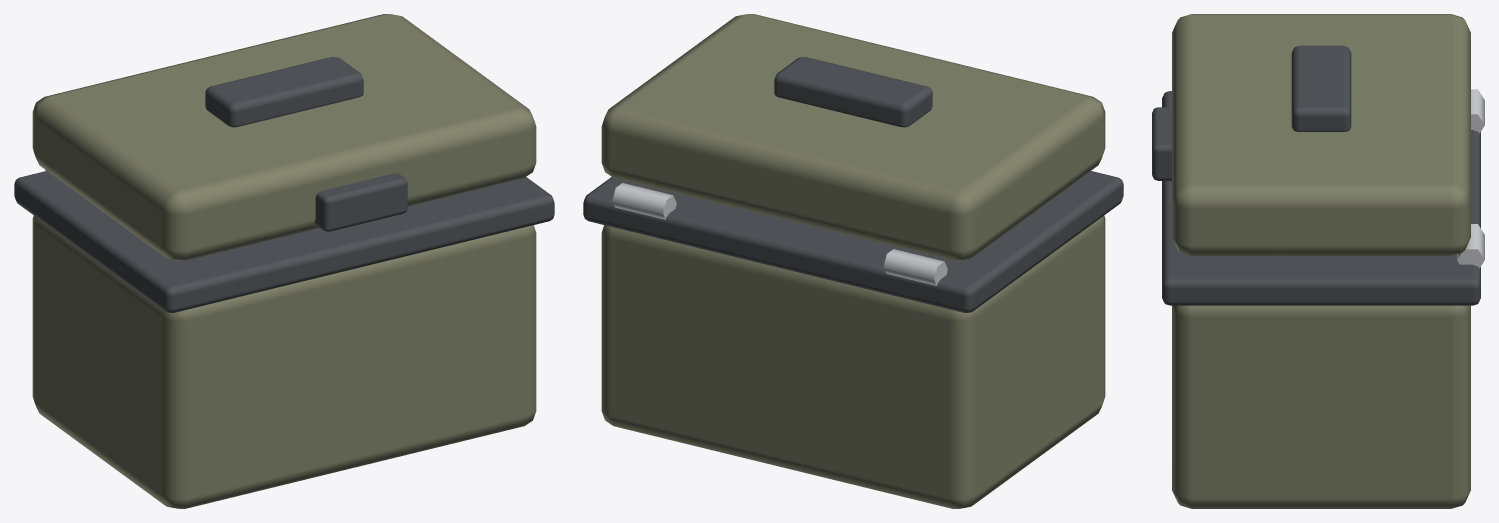
Rendered from fps-survival-forest-outpost-ammunition-box-67867ab3__32672.glb.
3 renders of one model, left to right at view 1: azimuth 30°, elevation 25°; view 2: azimuth 150°, elevation 25°; view 3: azimuth 270°, elevation 25°, orthographic.
Parts seen in each view (by area): view 1: ammunition-box, lid/canvas, lid/gunmetal; view 2: ammunition-box, lid/canvas, lid/gunmetal; view 3: ammunition-box, lid/canvas, lid/gunmetal.
Part boxes in pixels (bbox=[...]): ammunition-box: bbox=[14, 170, 554, 508]; lid/canvas: bbox=[32, 14, 536, 260]; lid/gunmetal: bbox=[205, 57, 407, 231]; ammunition-box: bbox=[583, 171, 1123, 508]; lid/canvas: bbox=[601, 14, 1105, 260]; lid/gunmetal: bbox=[774, 57, 932, 127]; ammunition-box: bbox=[1162, 89, 1484, 508]; lid/canvas: bbox=[1172, 14, 1470, 255]; lid/gunmetal: bbox=[1152, 45, 1351, 180].
Bounding box in the file's own units: 0.46 × 0.385 × 0.334.
